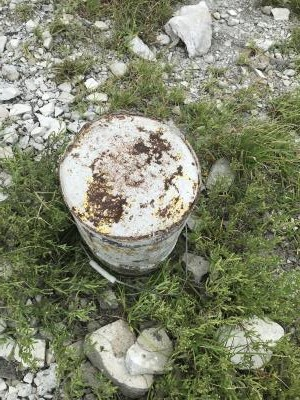bucket: (55, 110, 203, 279)
